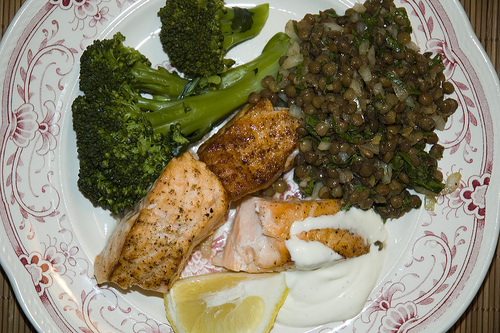broccoli: (71, 33, 292, 215), (158, 0, 268, 75)
